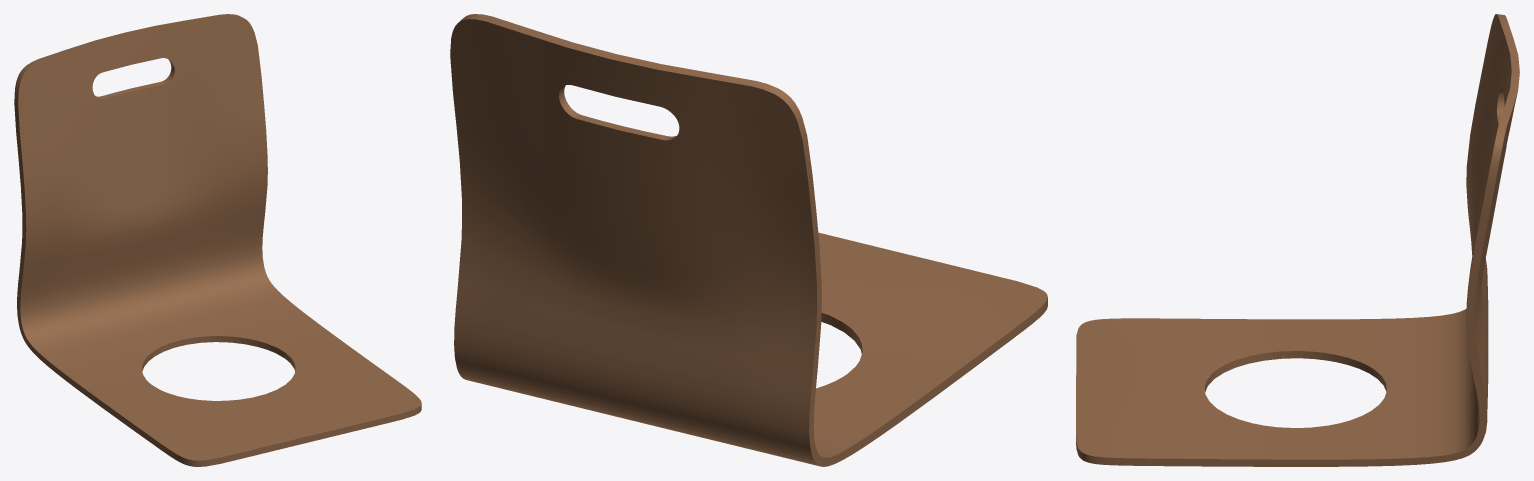
The model's file is 750_seat_chair.glb.
3 views of the same model, side by side, from view 1: azimuth 30°, elevation 25°; view 2: azimuth 150°, elevation 25°; view 3: azimuth 270°, elevation 25° (orthographic). The views are drawn at different scales.
Visible parts, largest first — view 1: Body; view 2: Body; view 3: Body.
Boxes of the visible parts, x1=… form: Body: x1=14, y1=14, x2=421, y2=466; Body: x1=450, y1=14, x2=1047, y2=466; Body: x1=1076, y1=14, x2=1519, y2=466.
Bounding box in the file's own units: 0.4001 × 0.4334 × 0.5349.
